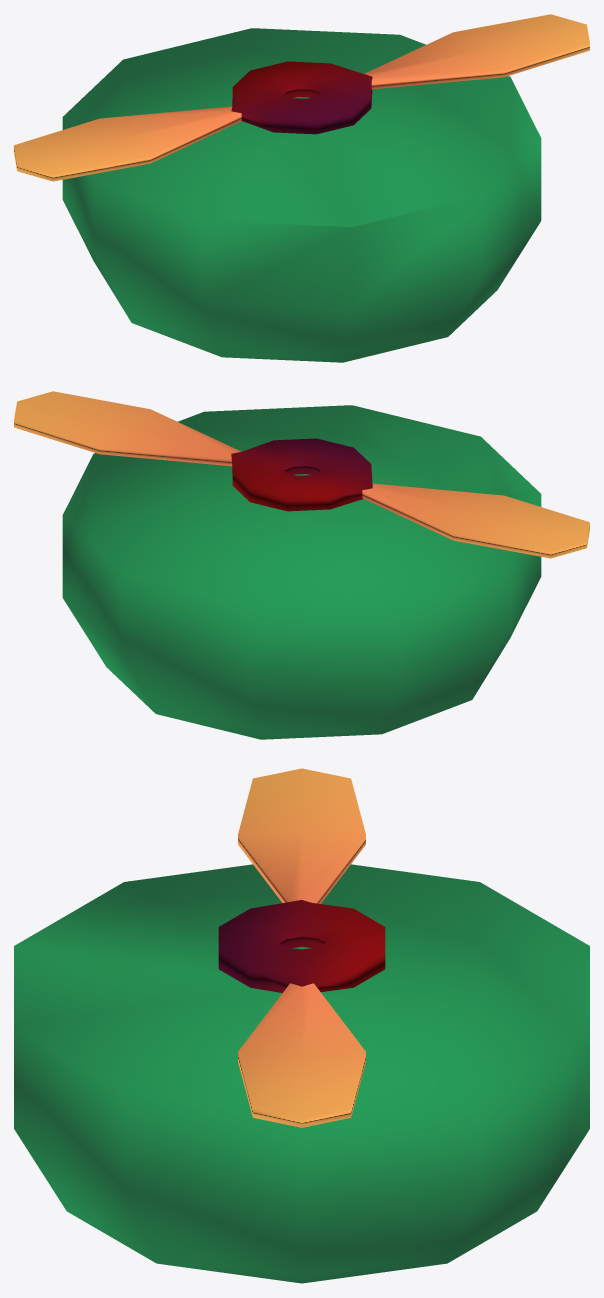
The model's file is MobyHats.fbx.
3 views of the same model, one above another, from view 1: azimuth 30°, elevation 25°; view 2: azimuth 150°, elevation 25°; view 3: azimuth 270°, elevation 25° (orthographic). The views are drawn at different scales.
Parts seen in each view (by area): view 1: lIQUID, PropellerBlade; view 2: lIQUID, PropellerBlade; view 3: lIQUID, PropellerBlade.
Part boxes in pixels (x1,y1,x2,y2): lIQUID: (62,28,541,362); PropellerBlade: (14,14,589,181); lIQUID: (62,405,541,739); PropellerBlade: (14,391,589,558); lIQUID: (14,864,589,1283); PropellerBlade: (218,768,385,1127).
Size of the model in its own units: 0.9963 by 0.3809 by 0.6935.
Materials: 2 (1 with a texture image).
